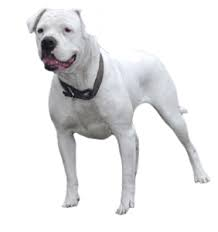dog: (23, 5, 211, 216)
